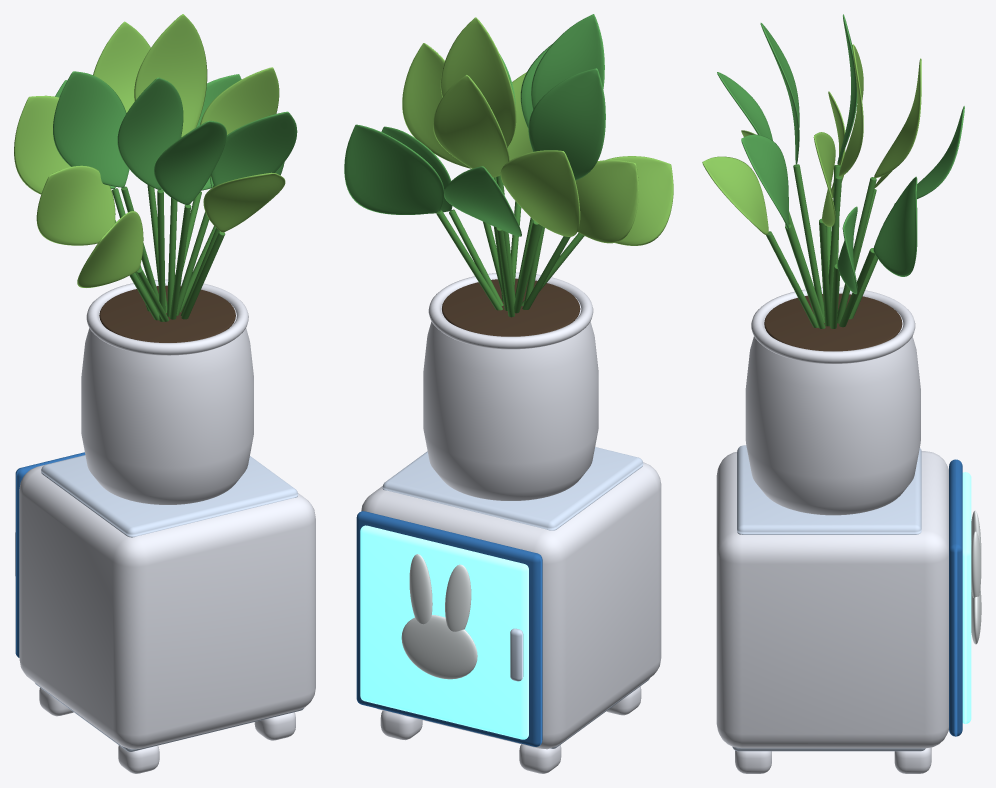
The model's file is Flowerpot.fbx.
3 views of the same model, side by side, from view 1: azimuth 30°, elevation 25°; view 2: azimuth 150°, elevation 25°; view 3: azimuth 270°, elevation 25° (orthographic).
Visible parts, largest first — view 1: BunnyCube_Body; view 2: BunnyCube_Body; view 3: BunnyCube_Body.
Part boxes in pixels (left/top/right/bottom): BunnyCube_Body: left=14, top=14, right=315, bottom=773; BunnyCube_Body: left=344, top=14, right=673, bottom=773; BunnyCube_Body: left=702, top=14, right=981, bottom=773.
Size of the model in its own units: 30.53 by 28.72 by 79.94.
